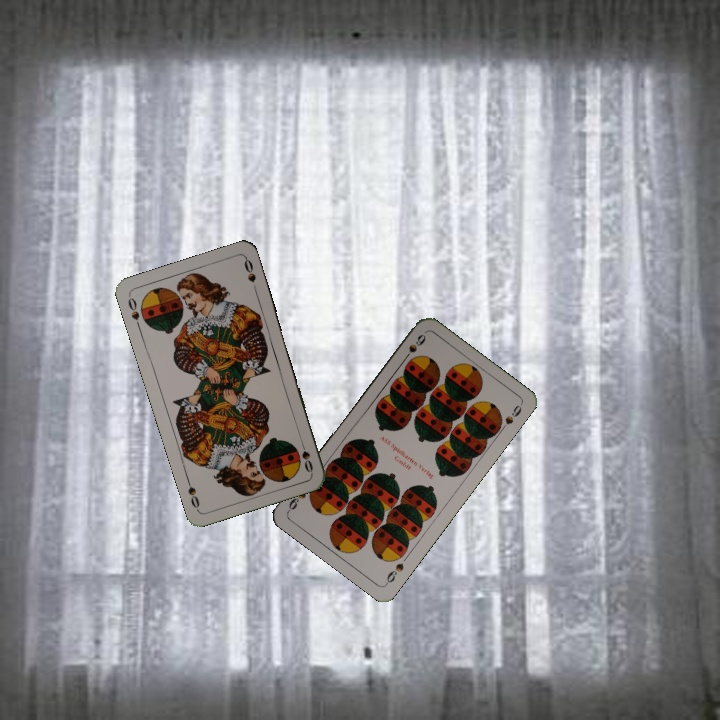S9: (399, 330, 429, 364), (382, 559, 406, 587)
SO: (296, 435, 315, 475), (124, 292, 143, 332)
